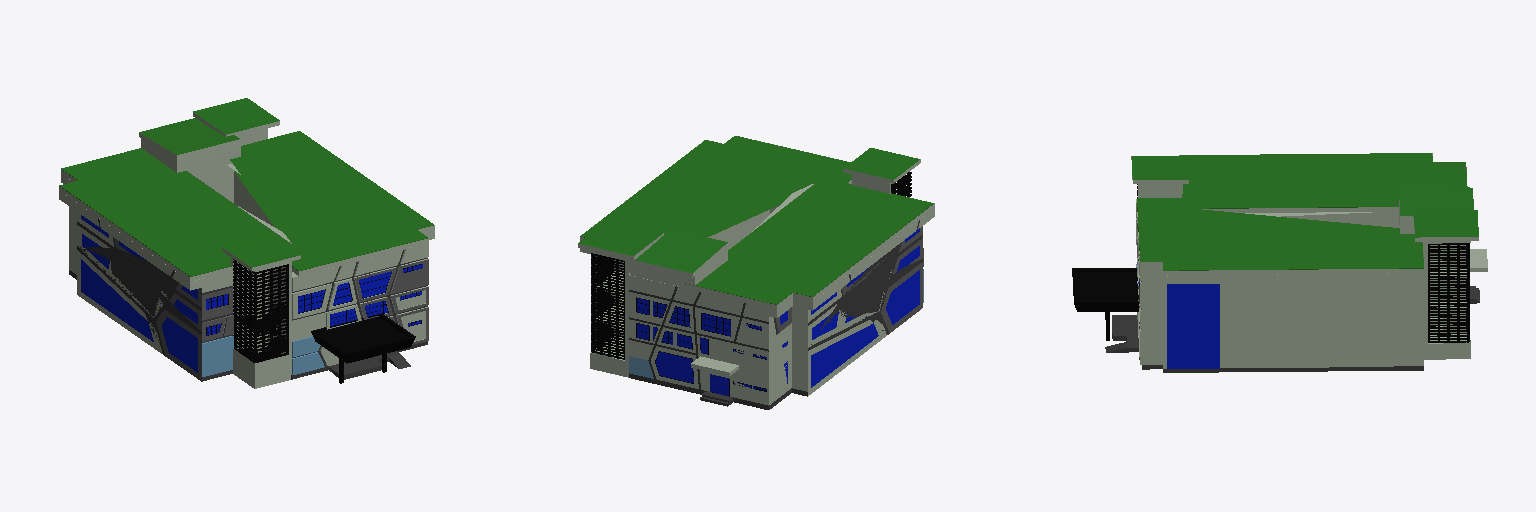
Rendered from CSU(Hiraya).obj.
The picture shows the model from 3 angles: view 1: azimuth 30°, elevation 25°; view 2: azimuth 150°, elevation 25°; view 3: azimuth 270°, elevation 25°; orthographic projection.
Visible parts, largest first — view 1: Cube.304, Cube.284, Cube.289, Cube.287, Cube.297, Cube.292, Cube.299, Cube.307; view 2: Cube.304, Cube.284, Cube.297, Cube.299, Cube.298, Cube.287, Cube.307; view 3: Cube.304, Cube.284, Cube.298, Cube.299, Cube.292, Cube.287, Cube.307, Cube.297.
Part boxes in pixels (bbox=[...]): Cube.304: bbox=[59, 164, 434, 381]; Cube.284: bbox=[59, 131, 433, 276]; Cube.289: bbox=[233, 259, 288, 362]; Cube.287: bbox=[222, 235, 300, 388]; Cube.297: bbox=[139, 118, 240, 174]; Cube.292: bbox=[311, 313, 415, 363]; Cube.299: bbox=[193, 98, 279, 145]; Cube.307: bbox=[59, 169, 434, 281]; Cube.304: bbox=[580, 184, 934, 409]; Cube.284: bbox=[580, 136, 933, 304]; Cube.297: bbox=[627, 227, 727, 287]; Cube.299: bbox=[578, 220, 663, 377]; Cube.298: bbox=[591, 253, 624, 359]; Cube.287: bbox=[843, 148, 920, 193]; Cube.307: bbox=[580, 136, 934, 309]; Cube.304: bbox=[1105, 199, 1487, 372]; Cube.284: bbox=[1137, 153, 1466, 270]; Cube.298: bbox=[1428, 243, 1469, 342]; Cube.299: bbox=[1414, 210, 1478, 359]; Cube.292: bbox=[1072, 268, 1138, 311]; Cube.287: bbox=[1131, 156, 1188, 197]; Cube.307: bbox=[1137, 153, 1467, 275]; Cube.297: bbox=[1399, 184, 1473, 233].
Size of the model in its own units: 94.92 by 47.49 by 141.